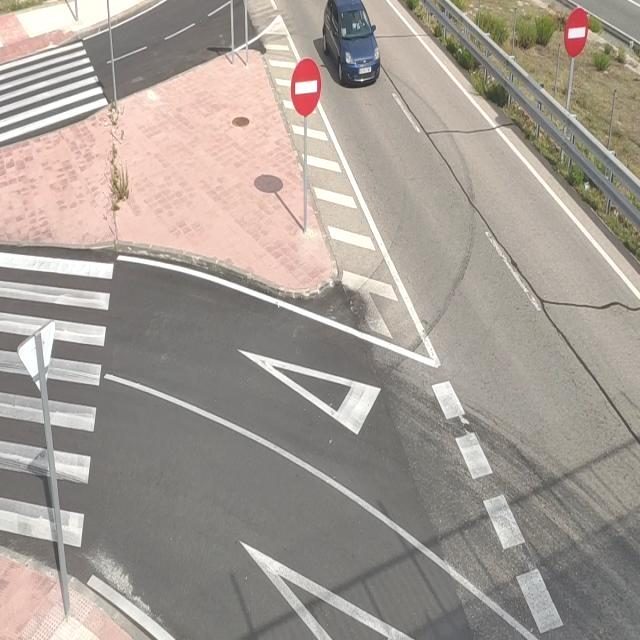Car: (317, 0, 382, 90)
